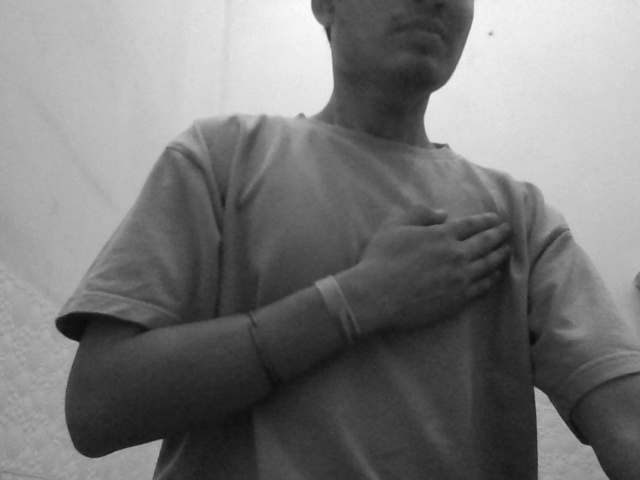Sorry: (330, 171, 550, 369)
